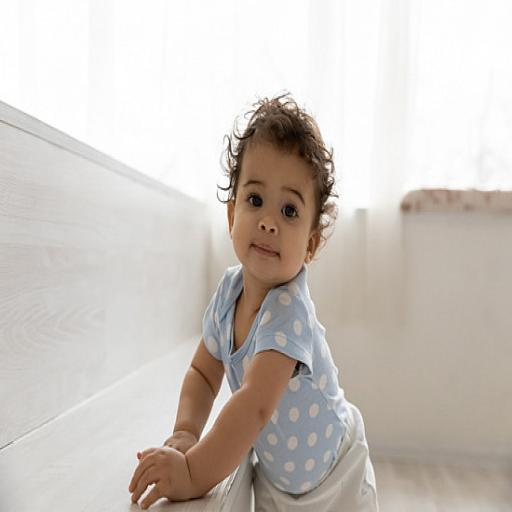bus_stop: (130, 95, 377, 510)
